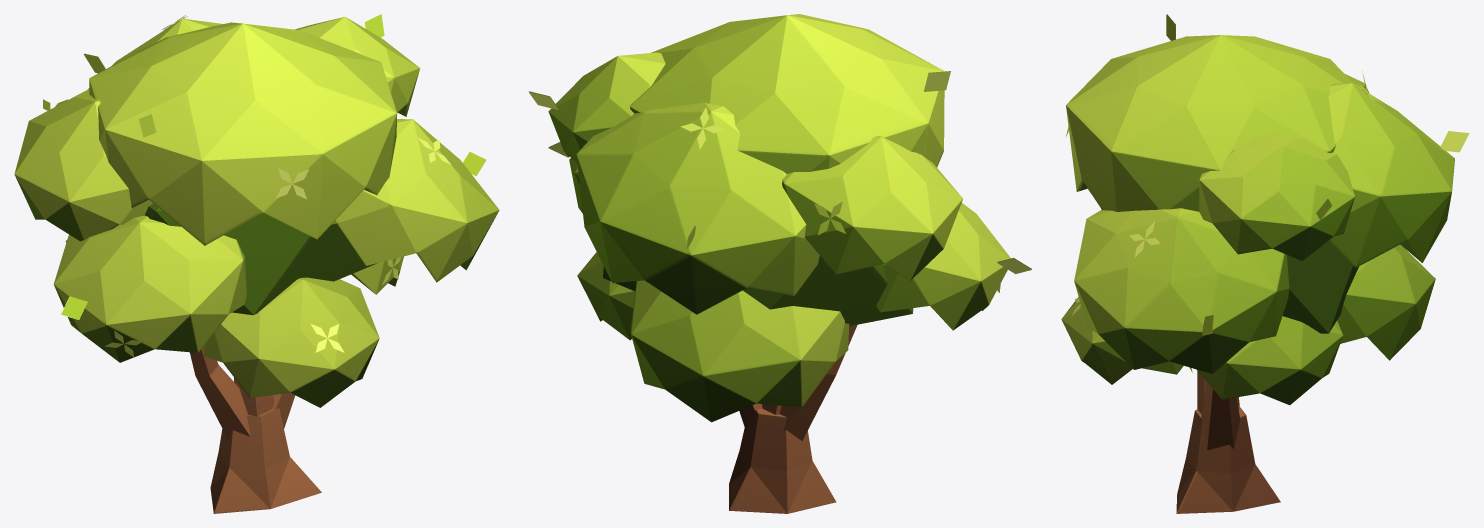
File: LowPolyTree.fbx
3 renders of one model, left to right at view 1: azimuth 30°, elevation 25°; view 2: azimuth 150°, elevation 25°; view 3: azimuth 270°, elevation 25°, orthographic. The views are drawn at different scales.
Parts seen in each view (by area): view 1: LowPolyTree; view 2: LowPolyTree; view 3: LowPolyTree.
Boxes of the visible parts, <box> form: LowPolyTree: <box>14,14,499,513</box>; LowPolyTree: <box>529,14,1031,513</box>; LowPolyTree: <box>1061,14,1469,513</box>.
Size of the model in its own units: 11.4 by 11.48 by 9.23.
1 material, 1 textured.
